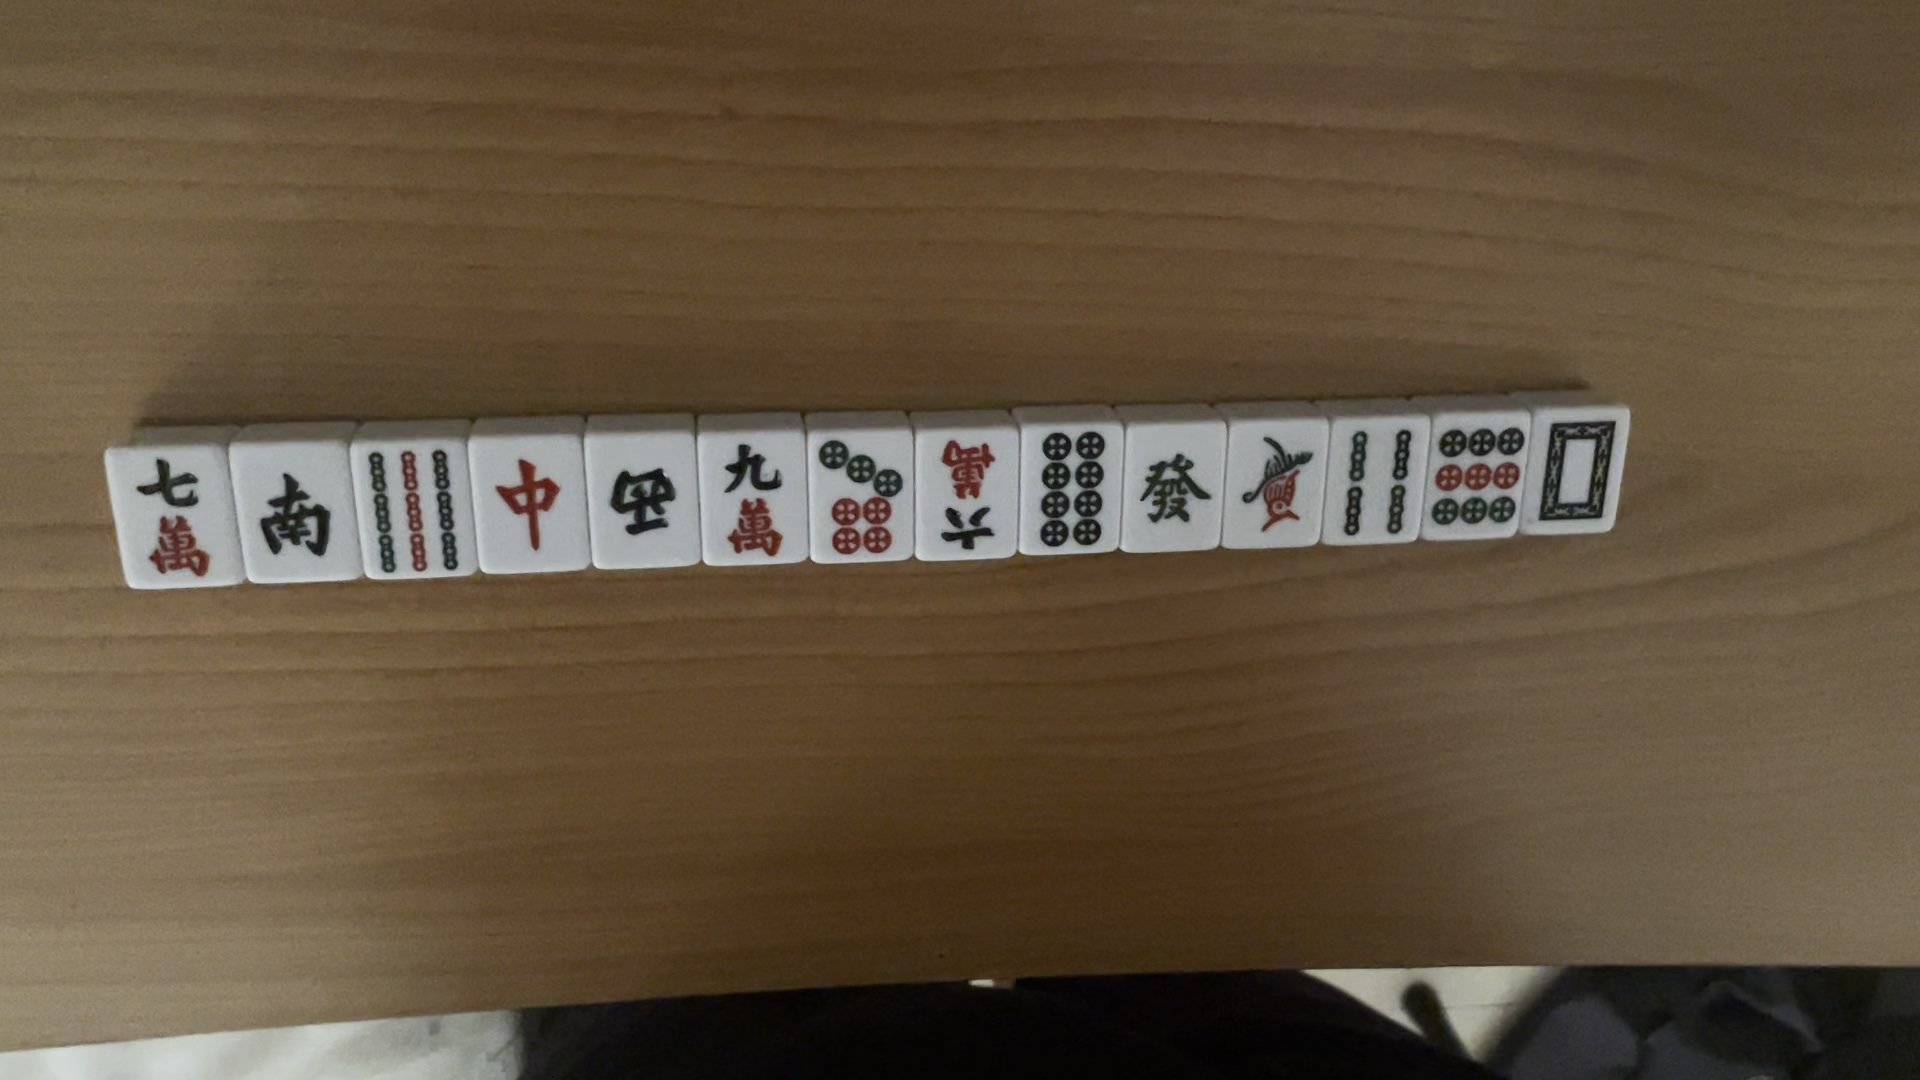b-1: (1228, 433, 1325, 531)
b-4: (1336, 429, 1415, 537)
b-9: (367, 447, 467, 582)
c-6: (926, 431, 1004, 550)
c-9: (707, 434, 794, 560)
d-7: (127, 444, 223, 585), (812, 431, 906, 567)
d-8: (1033, 430, 1120, 547)
d-9: (1428, 425, 1528, 534)
honors-green: (1127, 444, 1216, 531)
honors-red: (484, 456, 571, 550)
honors-south: (243, 467, 345, 567)
honors-west: (604, 454, 676, 541)
honors-white: (1535, 415, 1623, 531)
